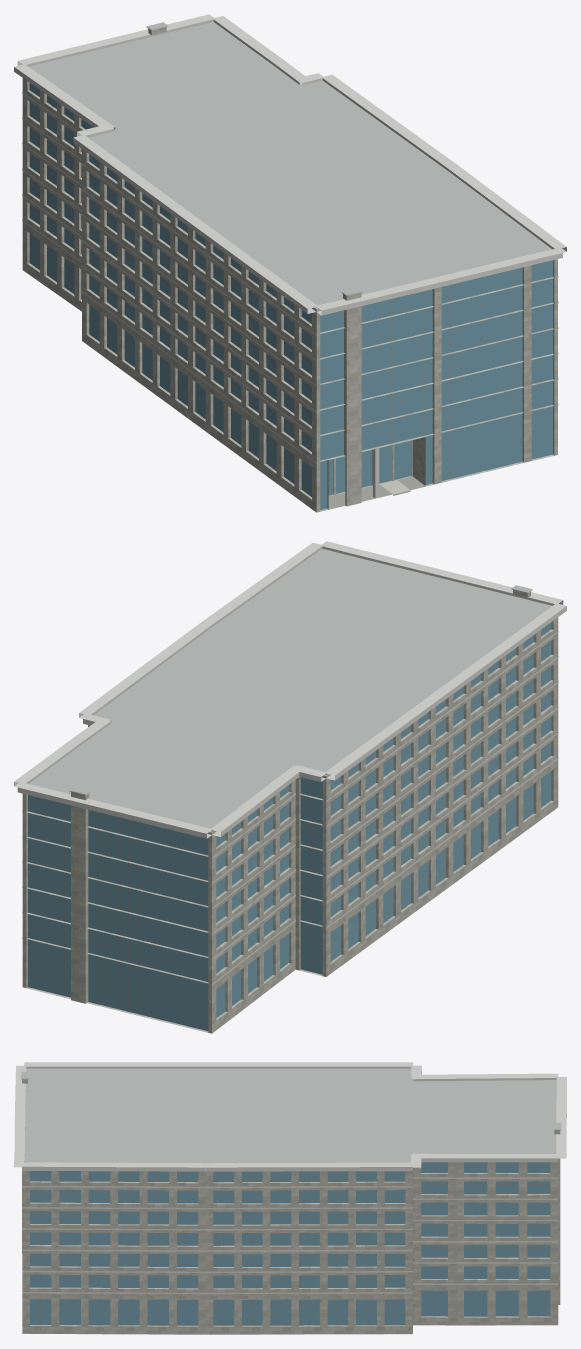
The picture shows the model from 3 angles, top to bottom: view 1: azimuth 30°, elevation 25°; view 2: azimuth 150°, elevation 25°; view 3: azimuth 270°, elevation 25°; orthographic projection. The views are drawn at different scales.
Visible parts, largest first — view 1: unist-batch-b112__base, b112__glass, b112__wall, b112__trim, b112__frame; view 2: unist-batch-b112__base, b112__glass, b112__wall, b112__trim, b112__frame; view 3: b112__wall, unist-batch-b112__base, b112__glass, b112__trim, b112__frame.
Boxes of the visible parts, left/top/right/bottom form: unist-batch-b112__base: left=23, top=22, right=555, bottom=512; b112__glass: left=29, top=83, right=552, bottom=509; b112__wall: left=22, top=27, right=557, bottom=512; b112__trim: left=14, top=14, right=566, bottom=463; b112__frame: left=29, top=87, right=541, bottom=493; unist-batch-b112__base: left=23, top=548, right=552, bottom=1033; b112__glass: left=28, top=622, right=551, bottom=1030; b112__wall: left=22, top=590, right=558, bottom=1033; b112__trim: left=14, top=541, right=566, bottom=984; b112__frame: left=36, top=627, right=551, bottom=1028; b112__wall: left=22, top=1079, right=560, bottom=1334; unist-batch-b112__base: left=21, top=1068, right=561, bottom=1334; b112__glass: left=30, top=1162, right=550, bottom=1325; b112__trim: left=14, top=1062, right=566, bottom=1294; b112__frame: left=30, top=1162, right=550, bottom=1325.
Bounding box in the file's own units: 38.33 × 30.05 × 85.03.
6 materials, 1 textured.
